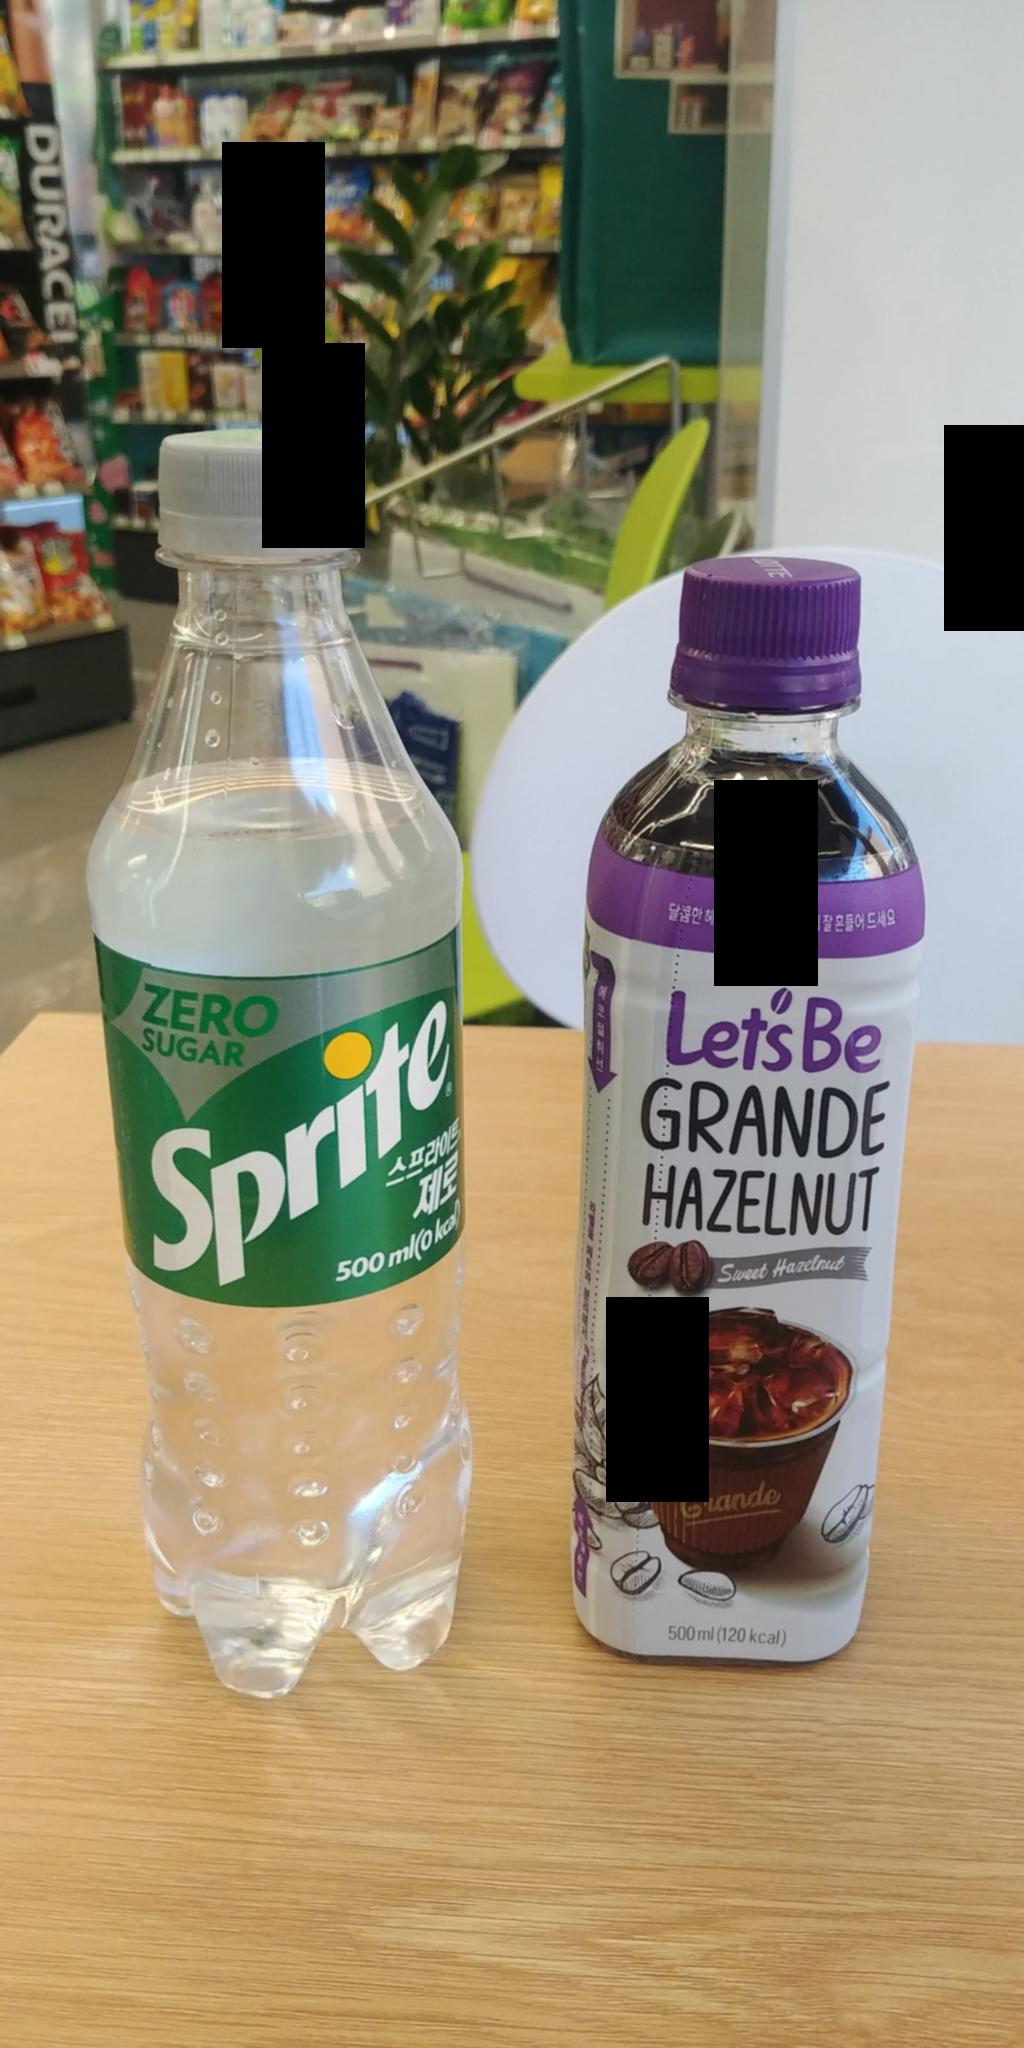letsbe_grande_hazelnut: (563, 537, 921, 1727)
sprite_zero: (55, 409, 478, 1695)
